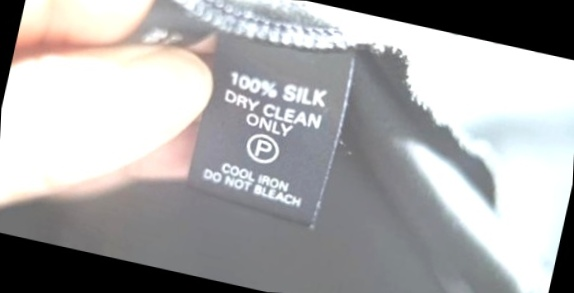dry_clean_any_solvent_except_trichloroethylene: (244, 129, 284, 167)
